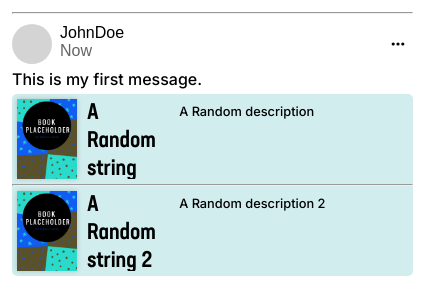
Test: WithoutBookMessage › should render a Un-report button for a user with an access level of equal to 3 if message is reported
The width and height of the screenshot is (432, 293).
Click the button with test id "more-button": (398, 44) [383,29,413,59]
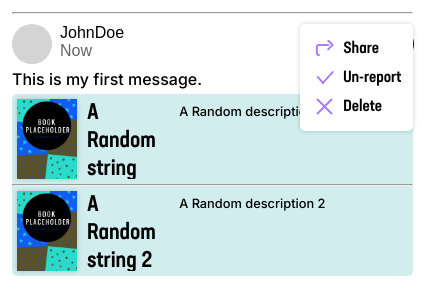
Expected: the text "Un-report" is shown, [343,68,401,88]
